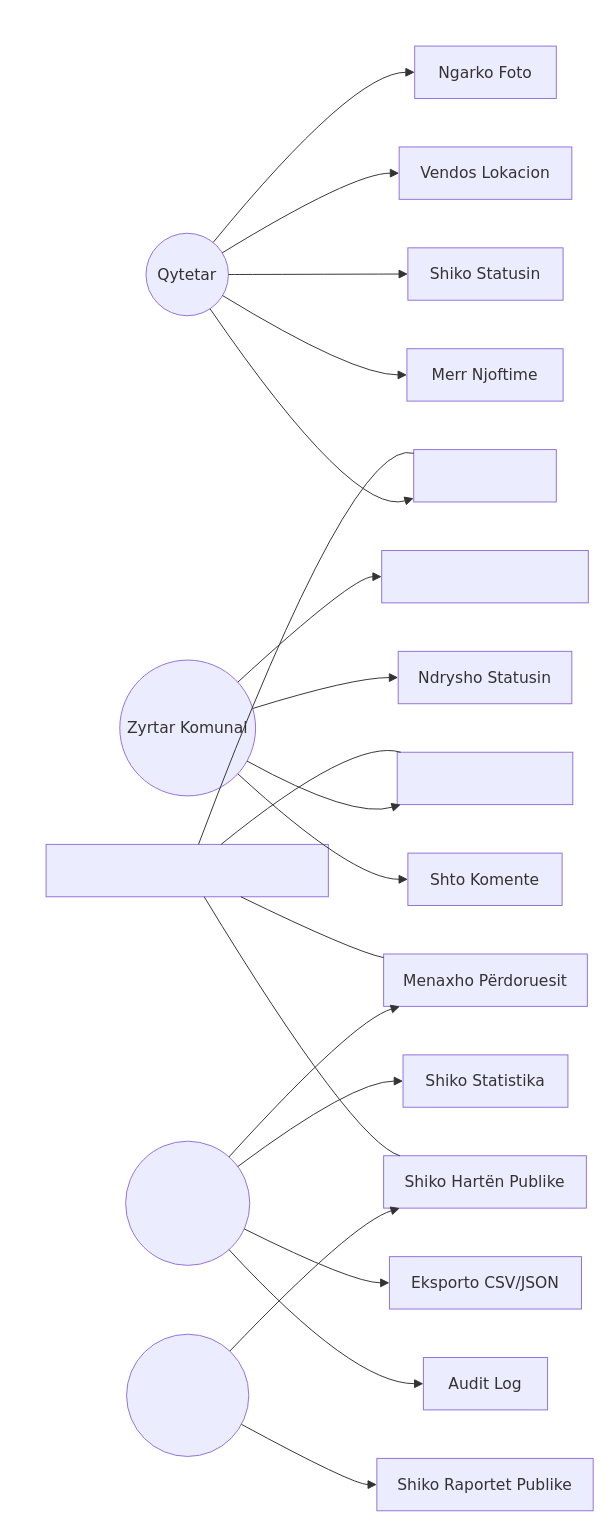
Some shapes in this 610 by 1528 pixel diagram are drawn without their labels. The shapes that lost their labels are listed below. From the top down, each one's centre as x and y in pixels, then its label:
the point at 484,475: Krijo Raport
the point at 484,576: Cakto Departamentin
the point at 484,778: Verifiko Raportin
the point at 186,870: Citizen Issue Reporting Platform
the point at 187,1202: Administrator
the point at 187,1394: Vizitor Publik
